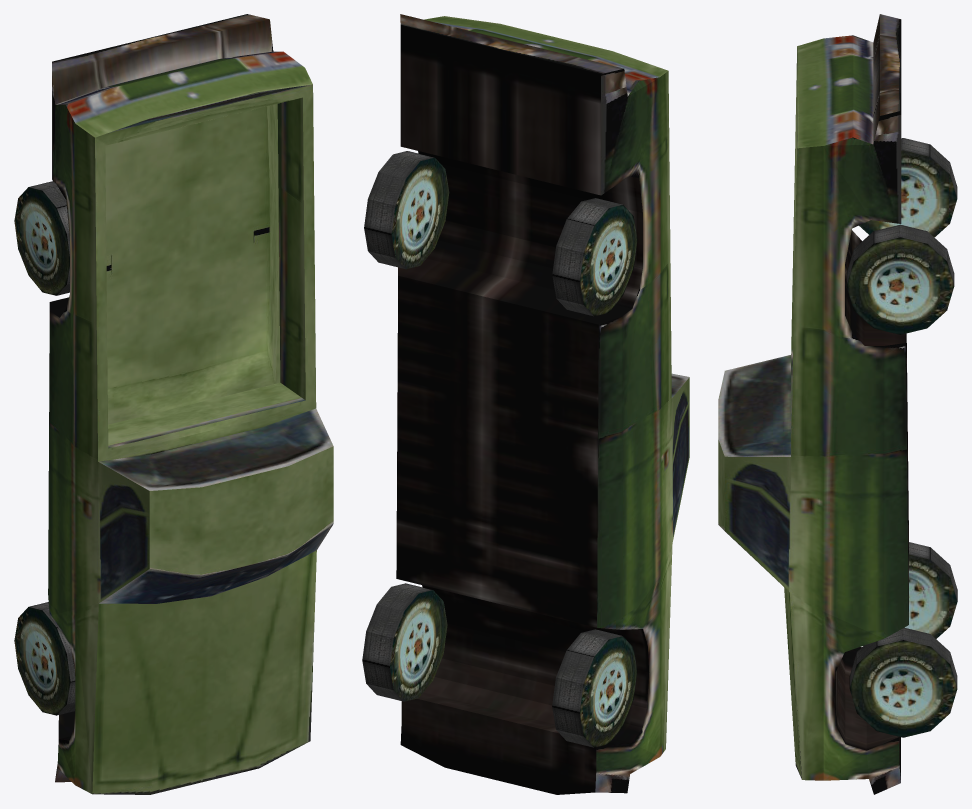
The model's file is carpack_truck2_wtf.obj.
3 renders of one model, left to right at view 1: azimuth 30°, elevation 25°; view 2: azimuth 150°, elevation 25°; view 3: azimuth 270°, elevation 25°, orthographic. The views are drawn at different scales.
Visible parts, largest first — view 1: group2; view 2: group2; view 3: group2.
Boxes of the visible parts, left/top/right/bottom form: group2: left=14, top=14, right=333, bottom=794; group2: left=362, top=14, right=689, bottom=794; group2: left=718, top=14, right=957, bottom=794.
Bounding box in the file's own units: 220 × 660 × 207.
